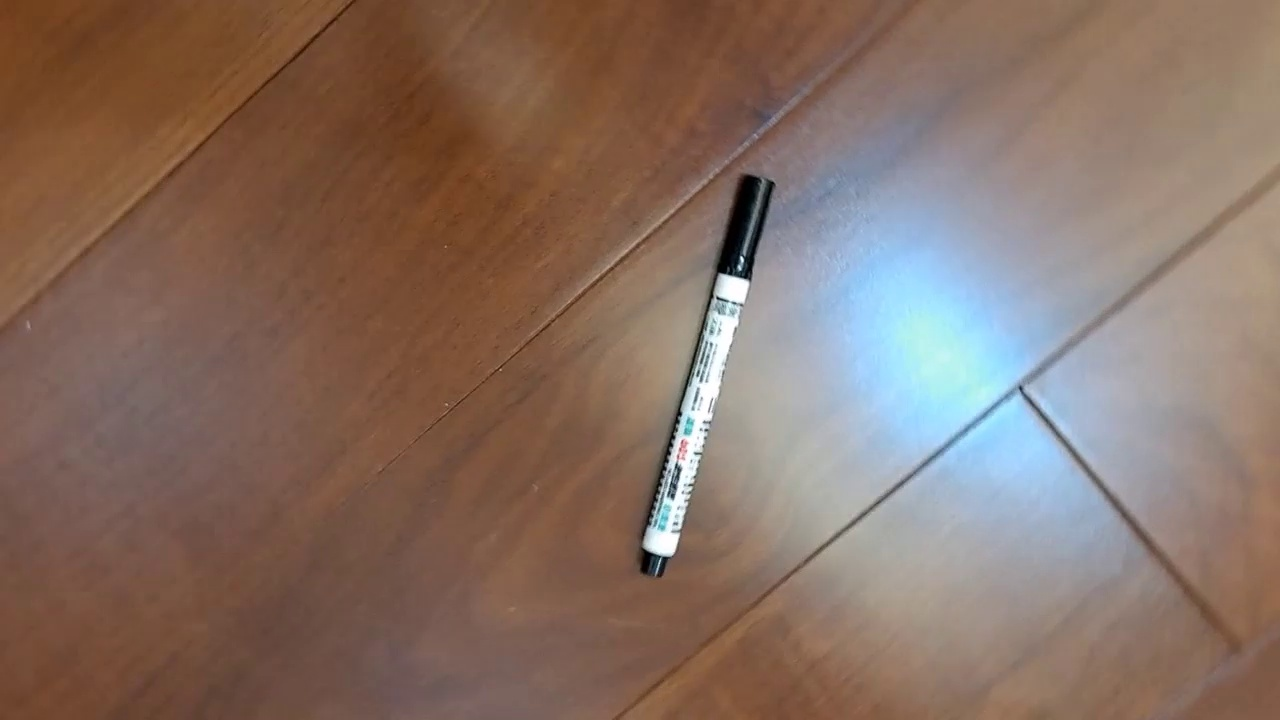pen: (638, 171, 776, 579)
